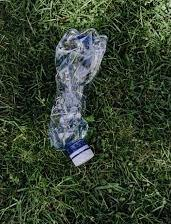Plastic: (47, 25, 110, 168)
